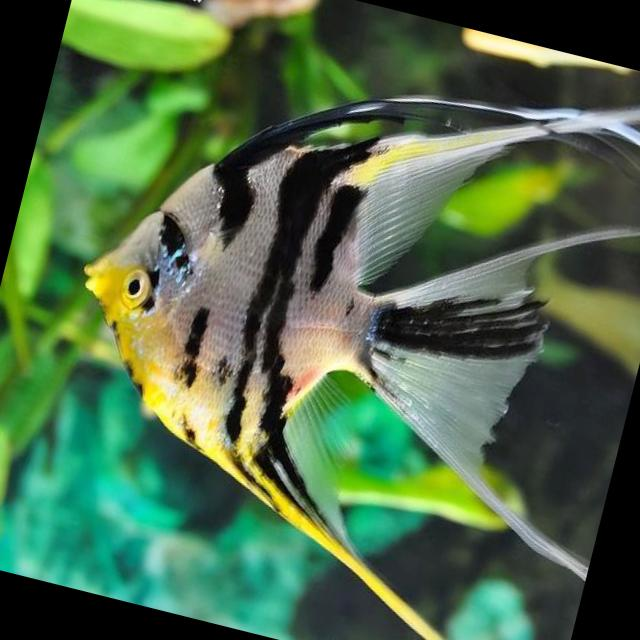AngelFish: (7, 23, 640, 640)
